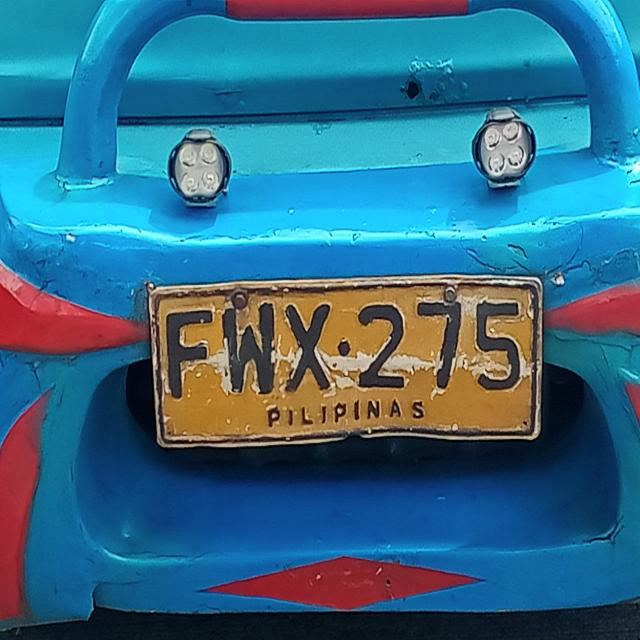plate: (140, 265, 552, 456)
